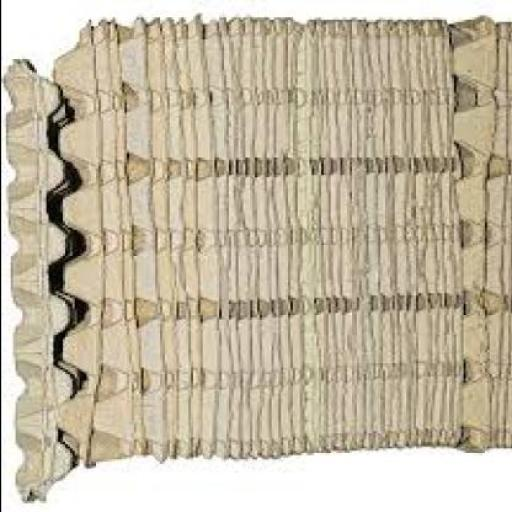cardboard: (50, 11, 510, 462), (0, 55, 74, 501), (50, 17, 101, 462), (446, 13, 491, 449)
